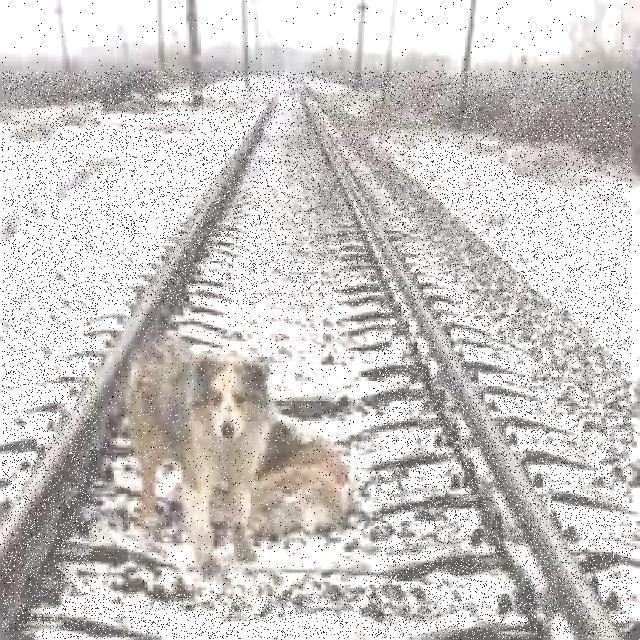danger: (97, 305, 375, 594)
rail: (2, 71, 632, 639)
